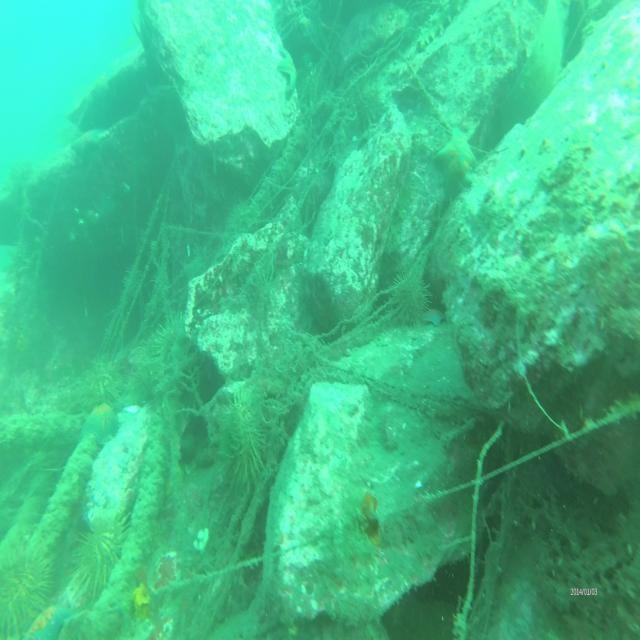echinus: (1, 548, 55, 636), (73, 514, 128, 600), (218, 394, 266, 479), (388, 270, 430, 330)
starfish: (436, 122, 480, 199), (80, 393, 118, 458), (24, 596, 70, 640), (277, 47, 303, 99)
